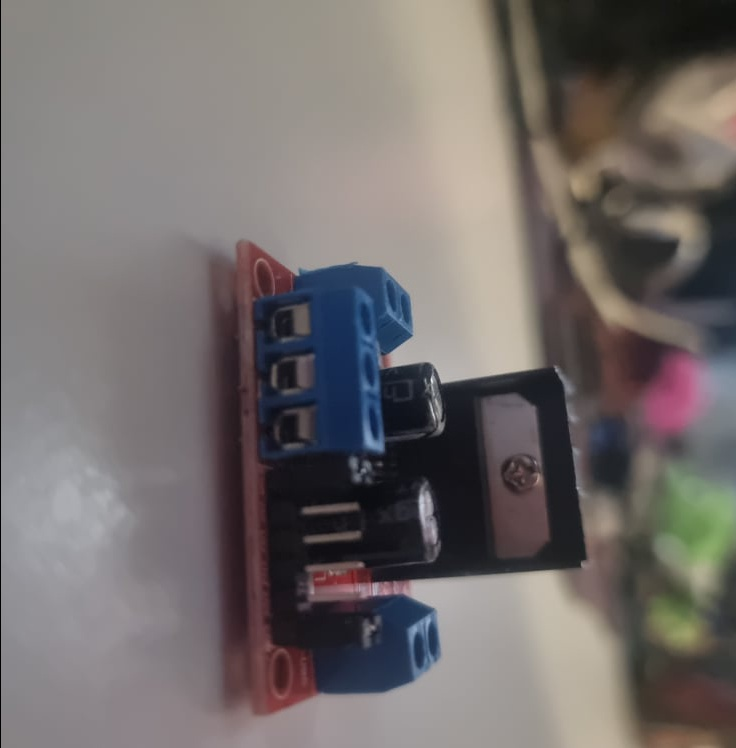MOTOR: (226, 240, 587, 723)
